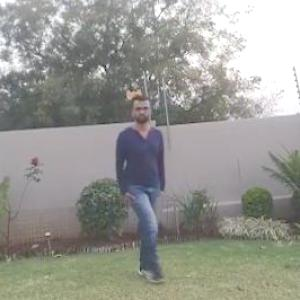follow: (107, 96, 169, 275)
